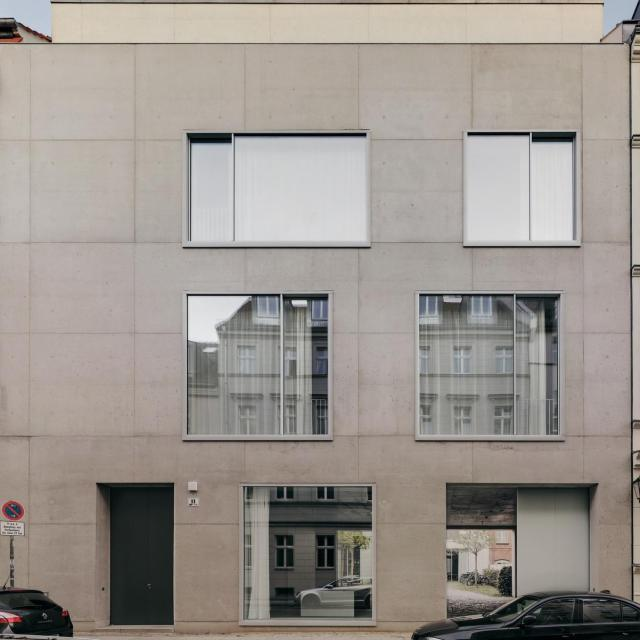door: (110, 488, 175, 624)
window: (183, 290, 333, 440), (416, 291, 564, 439), (190, 132, 369, 241), (240, 483, 376, 625), (469, 139, 574, 244)
